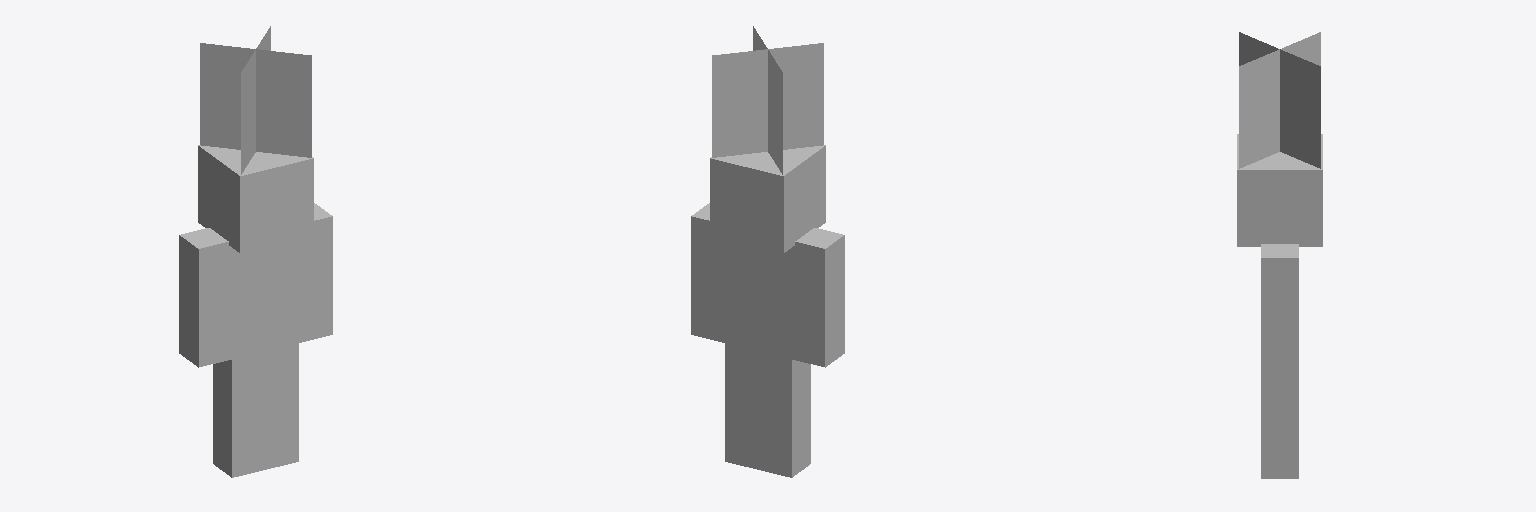
The model's file is vl_cosmetics_plantlike_on_head.obj.
3 renders of one model, left to right at view 1: azimuth 30°, elevation 25°; view 2: azimuth 150°, elevation 25°; view 3: azimuth 270°, elevation 25°, orthographic.
Parts seen in each view (by area): view 1: HeadPreview_Cube.014, plant_on_head_Cube.007; view 2: HeadPreview_Cube.014, plant_on_head_Cube.007; view 3: HeadPreview_Cube.014, plant_on_head_Cube.007.
Boxes of the visible parts, <box> form: HeadPreview_Cube.014: <box>179,145,332,477</box>; plant_on_head_Cube.007: <box>200,26,311,174</box>; HeadPreview_Cube.014: <box>691,145,844,477</box>; plant_on_head_Cube.007: <box>712,26,823,174</box>; HeadPreview_Cube.014: <box>1237,134,1322,478</box>; plant_on_head_Cube.007: <box>1239,32,1320,168</box>.
Size of the model in its own units: 8 by 23.53 by 4.4.